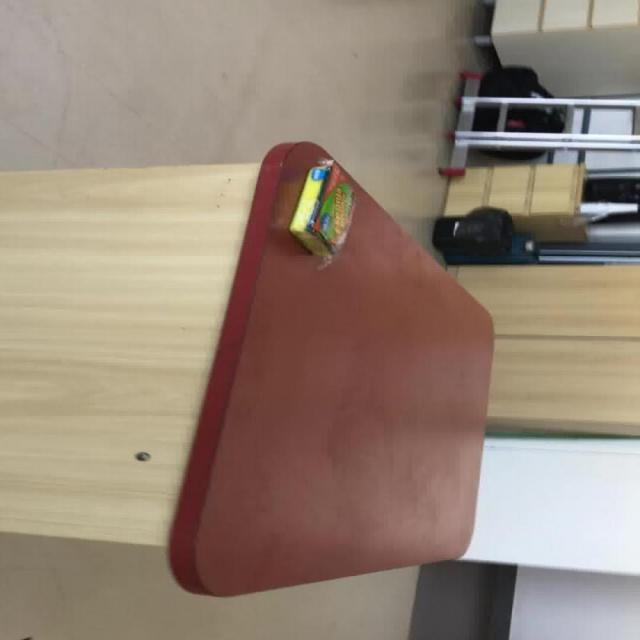Sponge: (166, 140, 495, 597), (287, 159, 355, 259)
